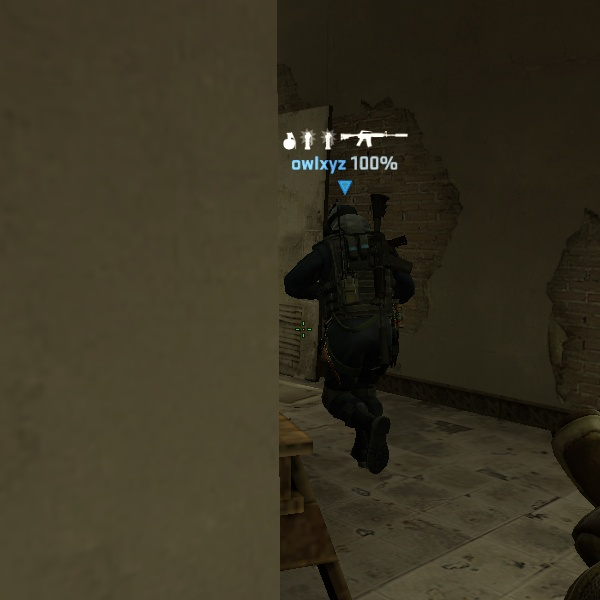ct_body: (268, 182, 434, 498)
ct_head: (312, 190, 388, 256)
